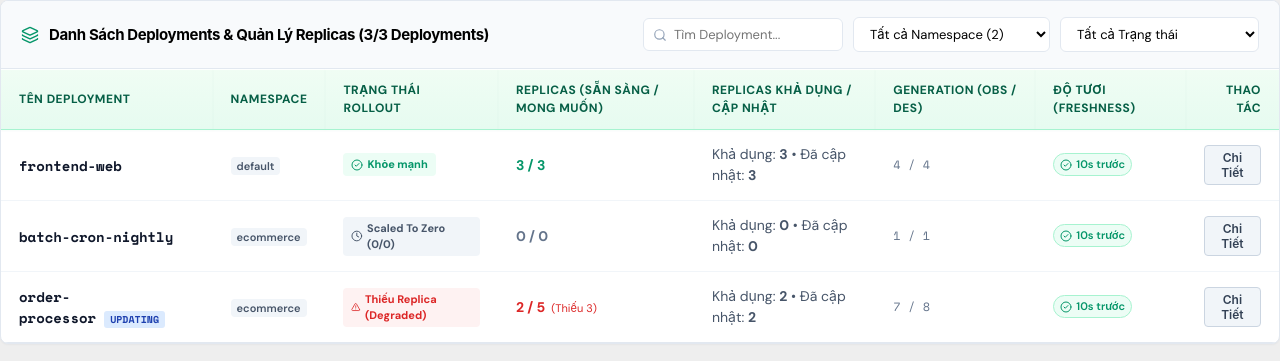
Test: K8s Resource Status UI & Polling Synchronization Test Suite [S3][PB14] 5.3 › 4. K8sDeploymentsPanel & Replica Status View › 4.2. Tìm kiếm và lọc Deployment theo namespace và trạng thái
Type "batch-cron" into the field with placeholder "Tìm Deployment...".
click(743, 34); type("batch-cron")  # box [643, 18, 843, 51]
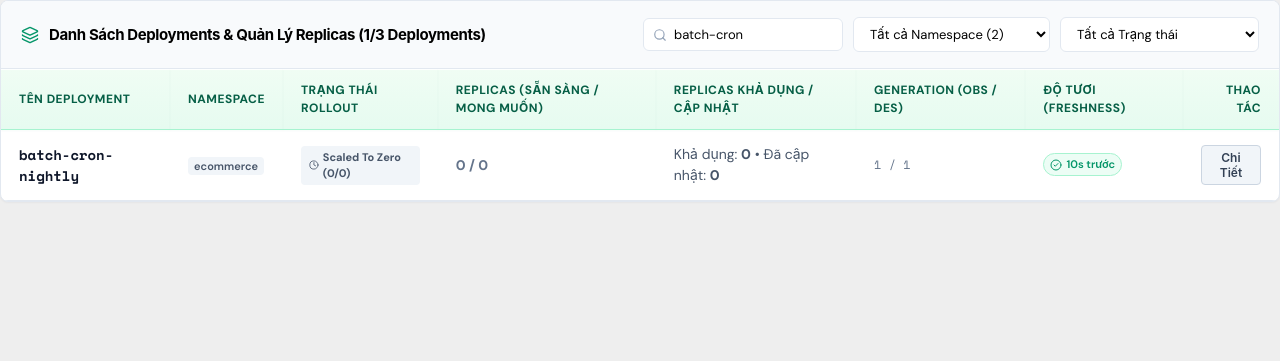
Expected: the text "batch-cron-nightly" is shown, [1, 130, 170, 200]
Now the text "frontend-web" is gone
Now the text "order-processor" is gone
